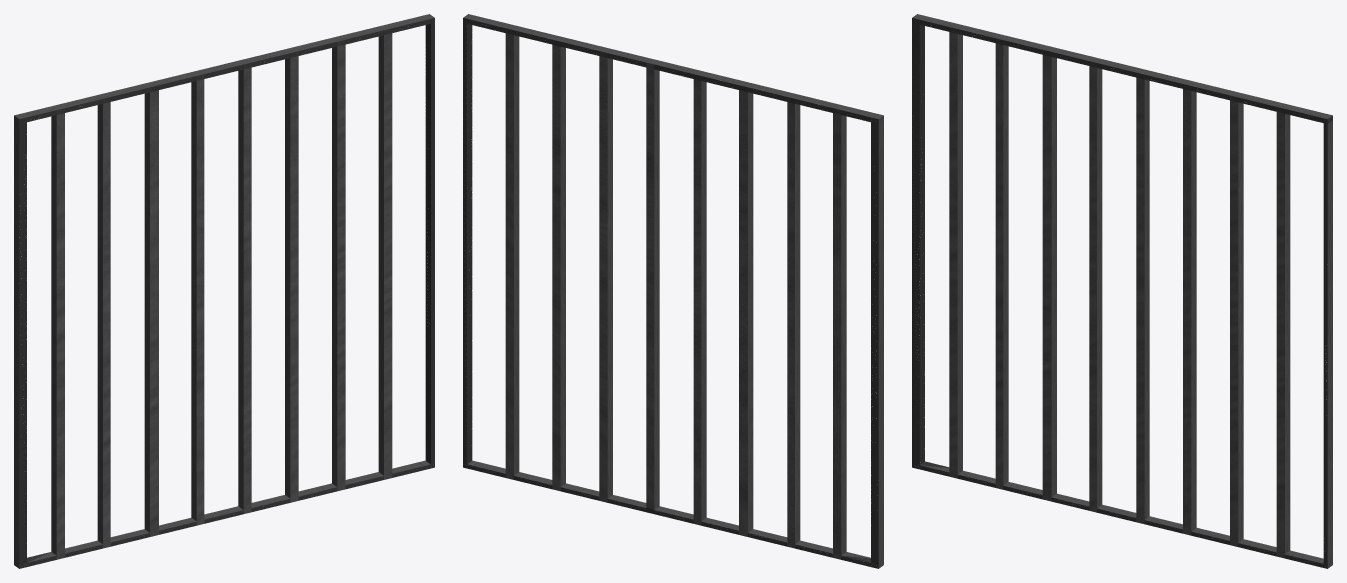
The model's file is bars.fbx.
The picture shows the model from 3 angles, left to right: view 1: azimuth 30°, elevation 25°; view 2: azimuth 150°, elevation 25°; view 3: azimuth 330°, elevation 25°; orthographic projection.
Parts seen in each view (by area): view 1: mrize; view 2: mrize; view 3: mrize.
Boxes of the visible parts, box(x1,y1,x2,y2) form: mrize: box(14, 14, 434, 568); mrize: box(463, 14, 883, 568); mrize: box(912, 14, 1332, 568).
Size of the model in its own units: 307 by 317 by 6.77.
